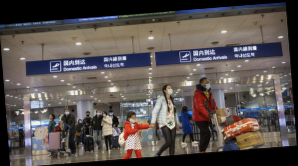mask_weared_incorrect: (128, 116, 137, 124)
with_mask: (166, 86, 174, 96), (204, 80, 212, 90), (96, 110, 102, 117), (65, 110, 71, 116), (102, 112, 107, 118), (86, 112, 90, 117), (109, 112, 114, 116), (79, 120, 83, 124)
without_mask: (48, 114, 53, 120)
